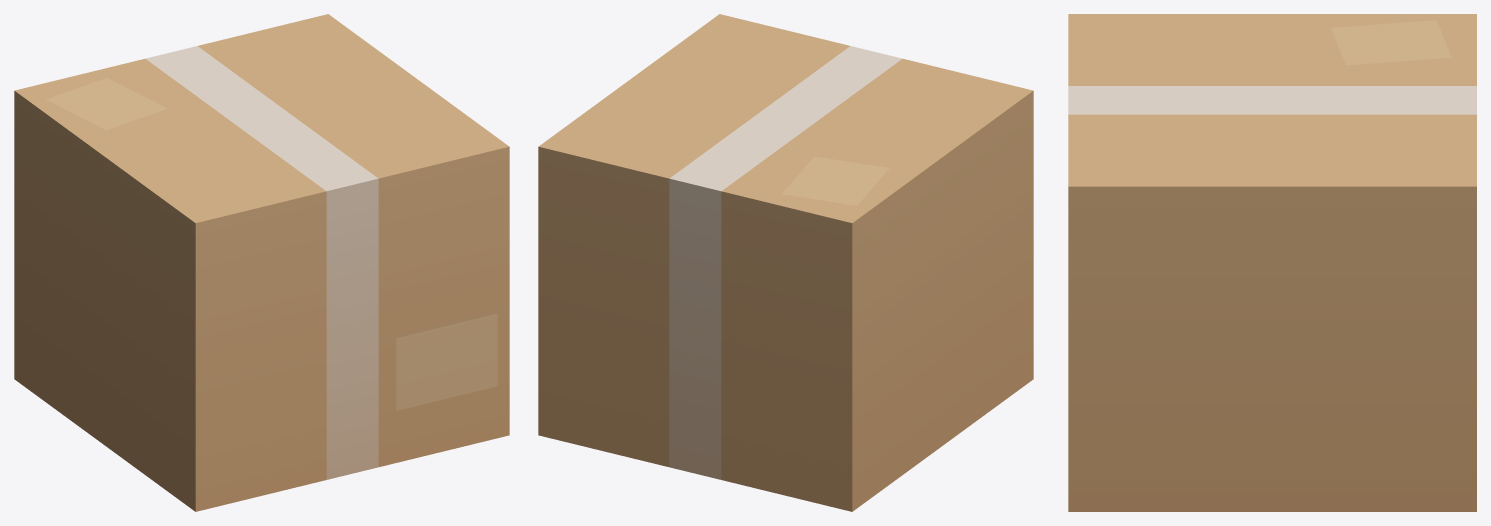
The model's file is prop_box_city.glb.
3 renders of one model, left to right at view 1: azimuth 30°, elevation 25°; view 2: azimuth 150°, elevation 25°; view 3: azimuth 270°, elevation 25°, orthographic. The views are drawn at different scales.
Visible parts, largest first — view 1: box_A; view 2: box_A; view 3: box_A.
Part boxes in pixels (x1,y1,x2,y2): box_A: [14, 14, 509, 511]; box_A: [538, 14, 1033, 511]; box_A: [1068, 14, 1476, 511].
Bounding box in the file's own units: 0.2 × 0.1764 × 0.2031.
1 material, 1 textured.
